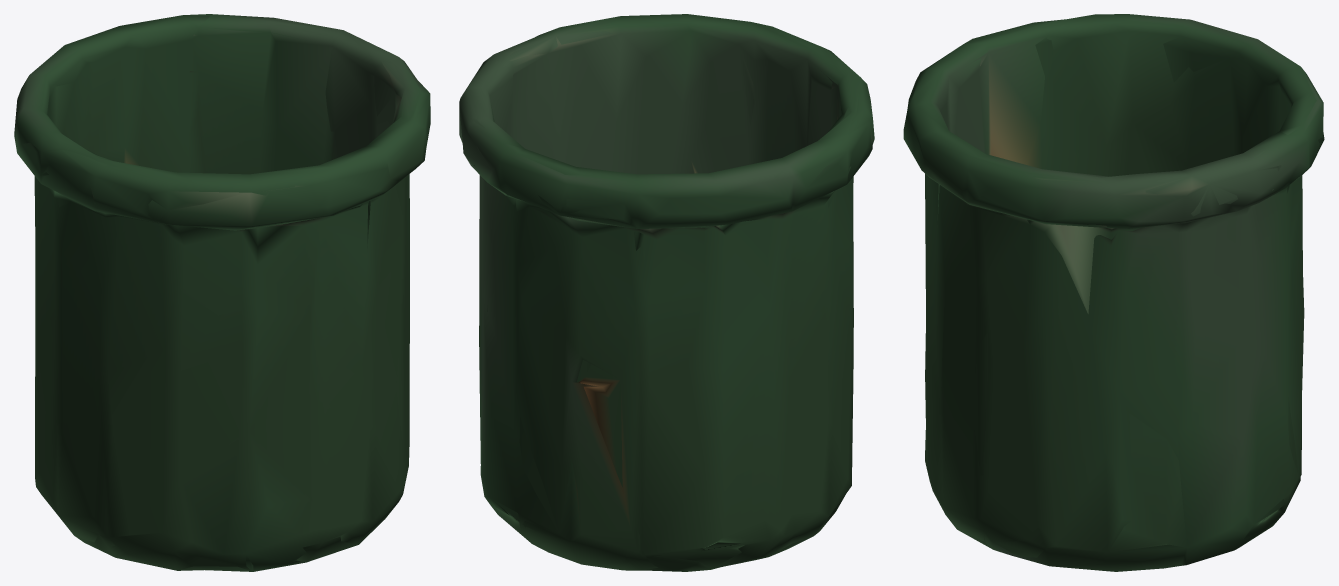
The model's file is gen3d-container-lod0.glb.
The picture shows the model from 3 angles, left to right: view 1: azimuth 30°, elevation 25°; view 2: azimuth 150°, elevation 25°; view 3: azimuth 270°, elevation 25°; orthographic projection.
Visible parts, largest first — view 1: part_0; view 2: part_0; view 3: part_0.
Part boxes in pixels (bbox=[...]): part_0: bbox=[14, 14, 430, 571]; part_0: bbox=[459, 14, 874, 571]; part_0: bbox=[903, 14, 1324, 571].
Size of the model in its own units: 0.9412 by 1 by 0.9434.
